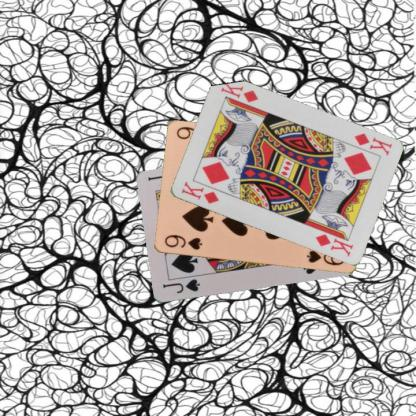9s: (162, 233, 203, 252)
Js: (160, 277, 201, 295)
Kd: (178, 179, 220, 205), (351, 131, 393, 157)
